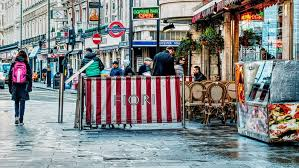London Underground: (107, 21, 126, 39)
